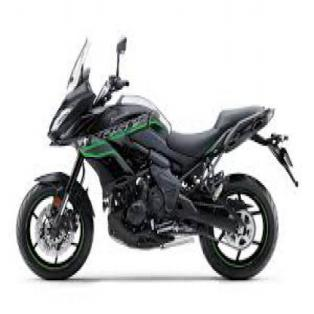Motocicleta: (13, 36, 300, 289)
